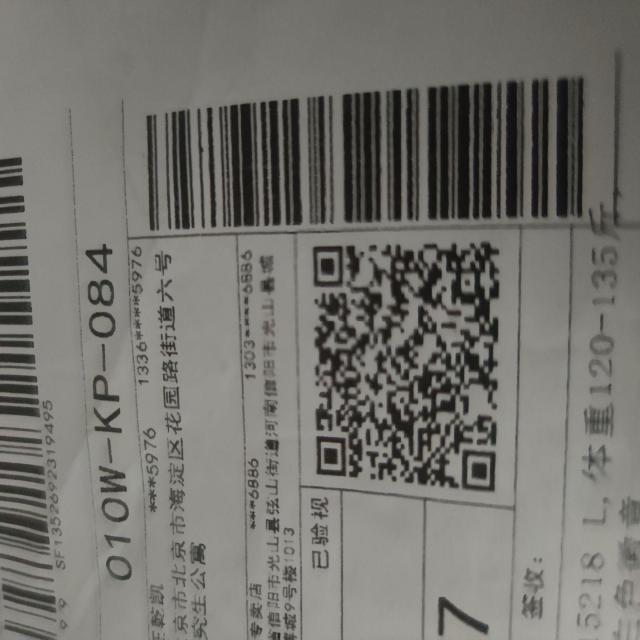qr_code: (313, 242, 499, 492)
